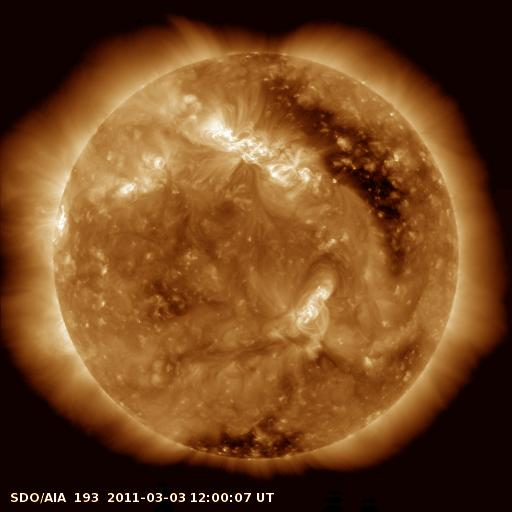coronal_hole: (252, 48, 409, 266), (182, 422, 318, 464)
